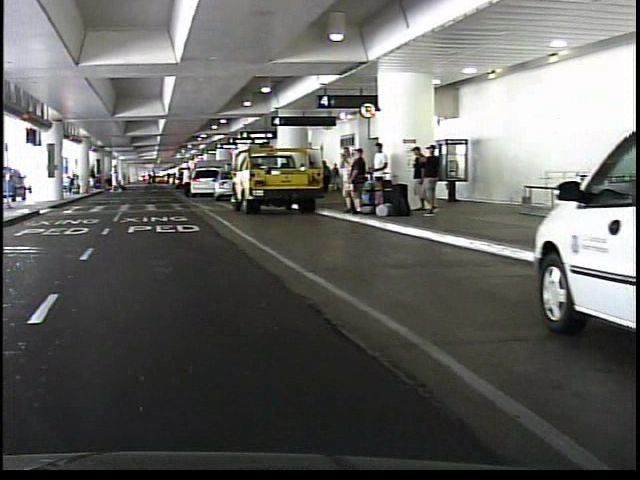person: (419, 144, 437, 217), (333, 143, 351, 212), (101, 162, 117, 196), (177, 165, 187, 197)
